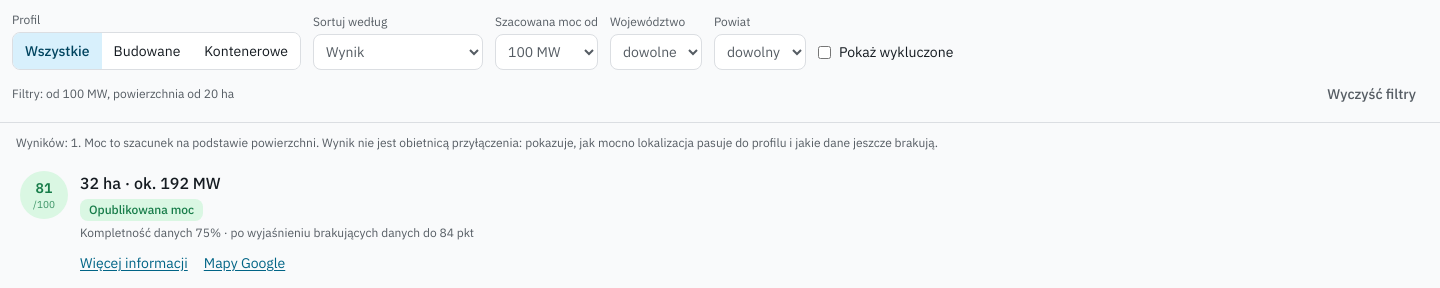
it: SiteList › names the active filters and resets them to the defaults
Expected: the text "Filtry: od 100 MW, powierzchnia od 20 ha" is shown, [12, 86, 234, 102]
Click the button "Wyczyść filtry" at {"x": 1372, "y": 94}, box [1315, 78, 1428, 110]
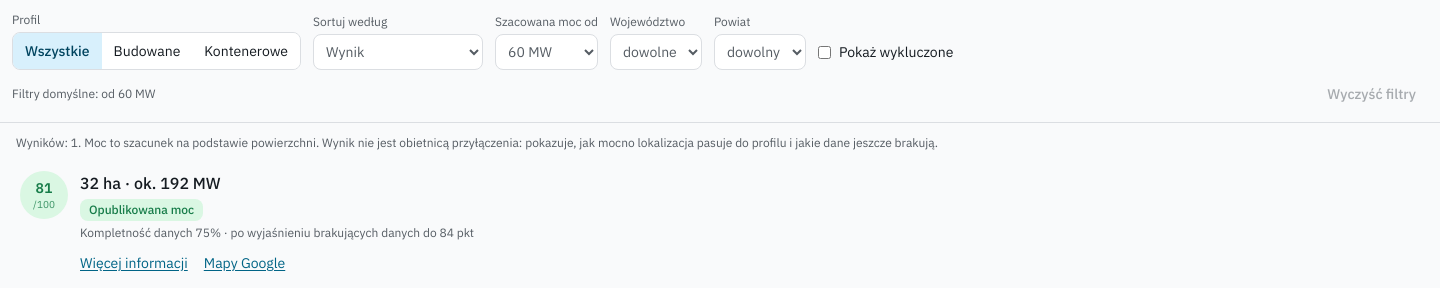
Result: the text "Filtry domyślne: od 60 MW" is shown at [12, 86, 156, 102]
Result: the button "Wyczyść filtry" is disabled at [1315, 78, 1428, 110]
